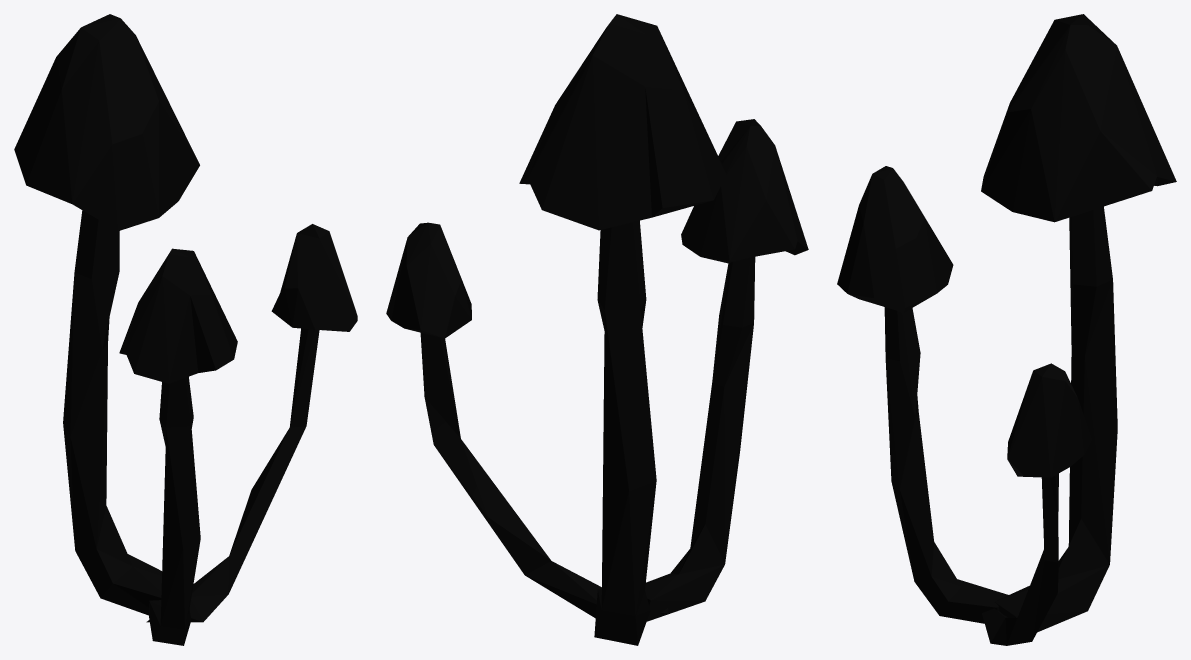
Rendered from synty-plant-mushrooms-03.gltf.
3 views of the same model, side by side, from view 1: azimuth 30°, elevation 25°; view 2: azimuth 150°, elevation 25°; view 3: azimuth 270°, elevation 25° (orthographic). The views are drawn at different scales.
Parts seen in each view (by area): view 1: SM_Plant_Mushrooms_03; view 2: SM_Plant_Mushrooms_03; view 3: SM_Plant_Mushrooms_03.
Part boxes in pixels (<box>): SM_Plant_Mushrooms_03: <box>14,14,357,645</box>; SM_Plant_Mushrooms_03: <box>386,14,808,645</box>; SM_Plant_Mushrooms_03: <box>837,14,1176,645</box>.
Size of the model in its own units: 0.4689 by 0.843 by 0.4321.
1 material, 1 textured.
